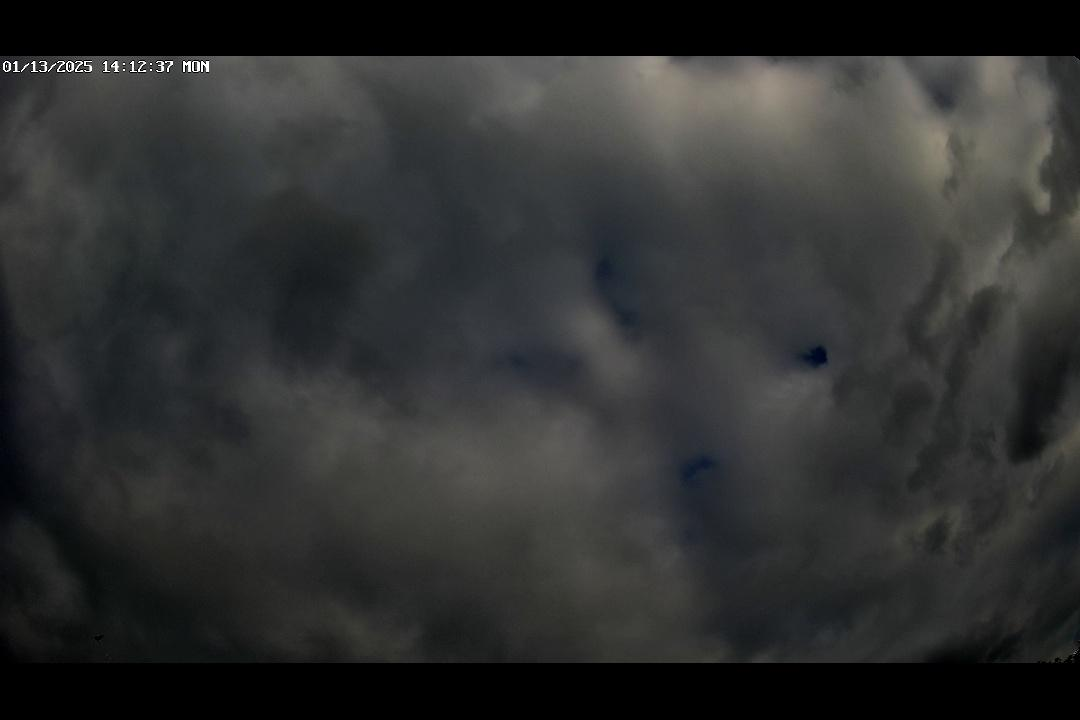WildLife: (85, 631, 110, 644)
